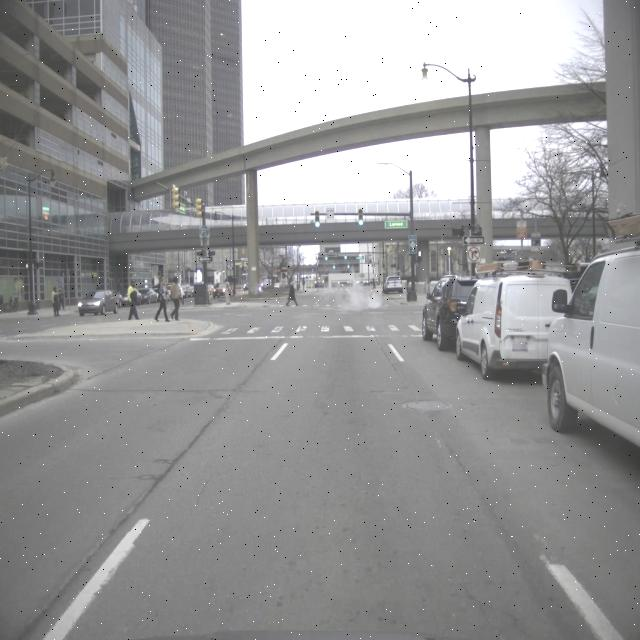humans: (157, 276, 170, 322), (127, 279, 140, 321), (172, 276, 184, 320), (287, 280, 299, 306), (51, 286, 60, 318), (301, 275, 306, 292)
